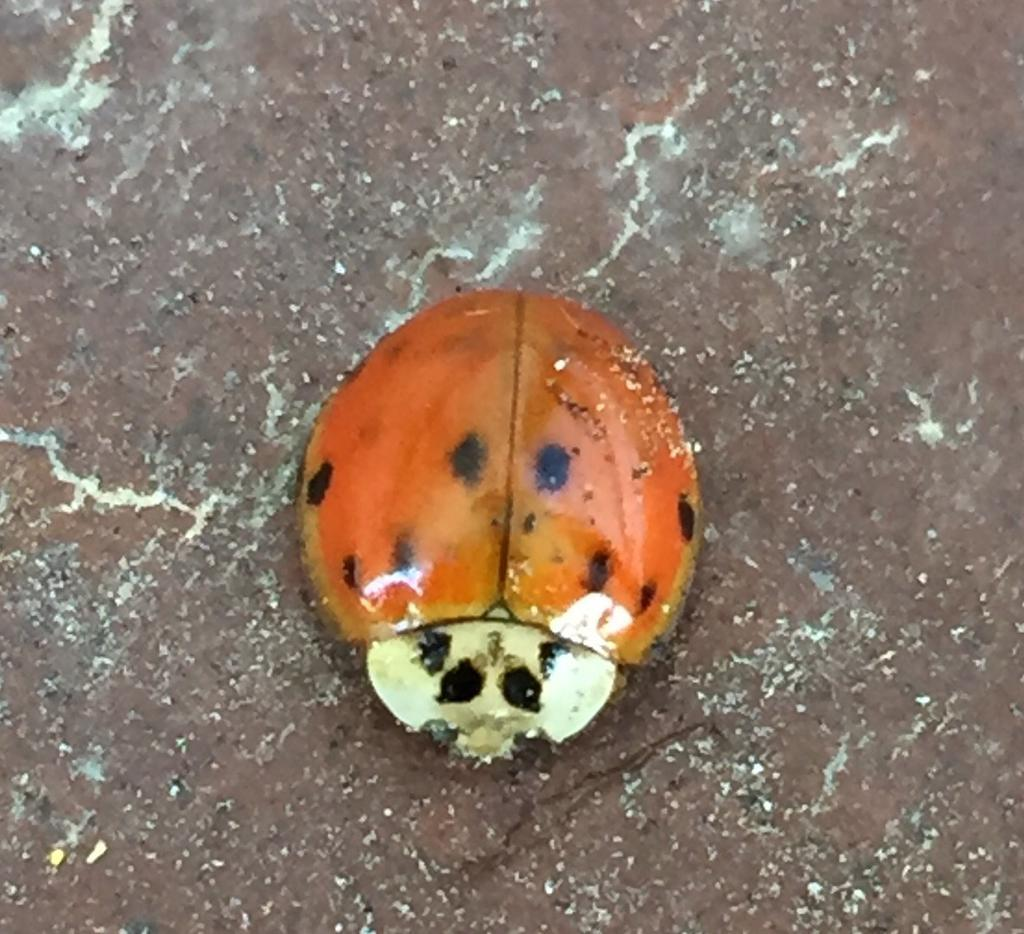ladybug: (291, 286, 711, 771)
